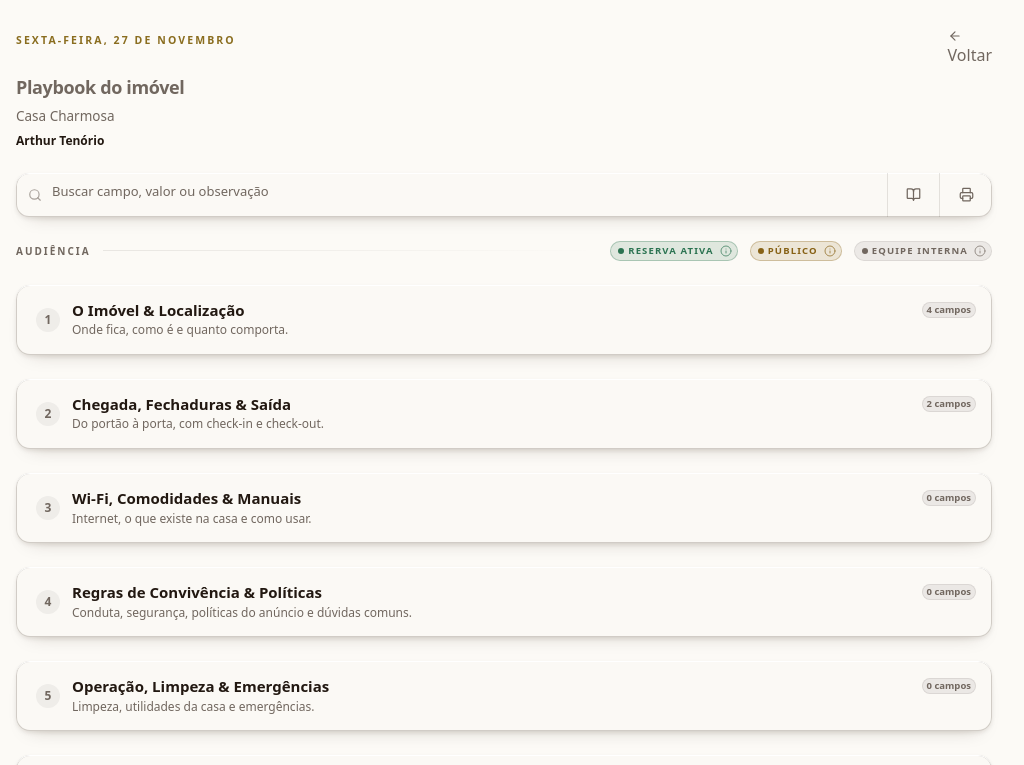
Test case: PlaybookPage › quantas linhas quiser abertas e a Nota do anfitrião só aparece na aberta
Expected: the text "Arthur Tenório" is shown, [16,133,104,149]
Click the button that starts with "O Imóvel & Localização" at coordinates (158, 310), box [36,300,976,338]
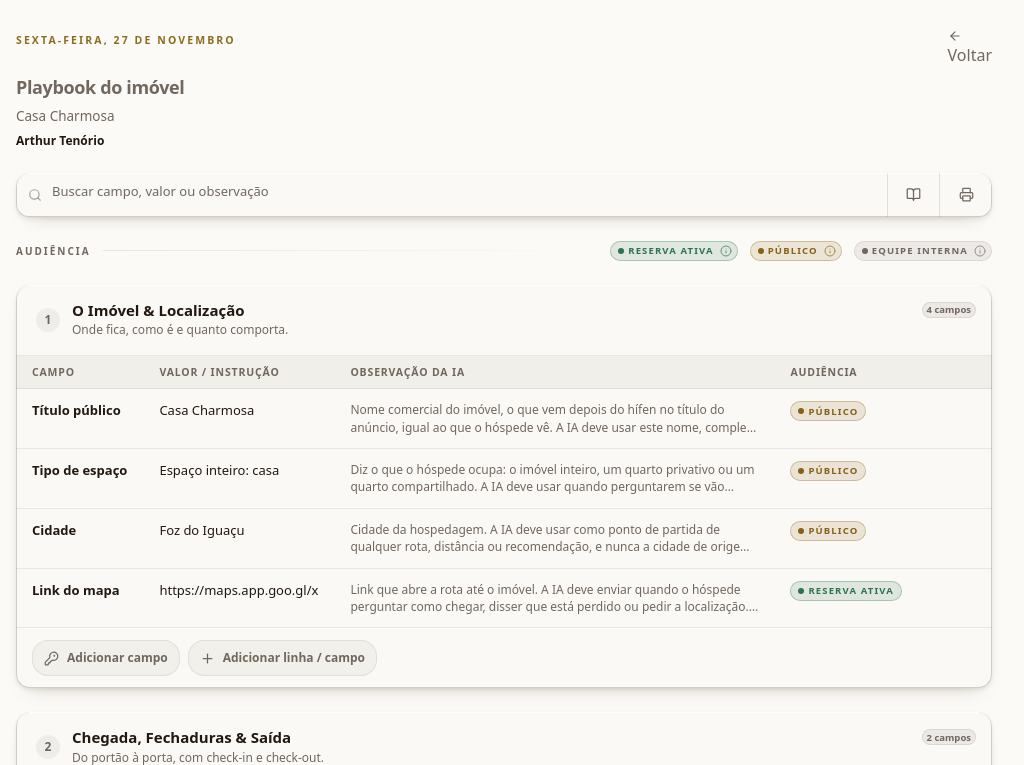
Click the text "Título público" at coordinates (76, 410), box [32,401,121,419]
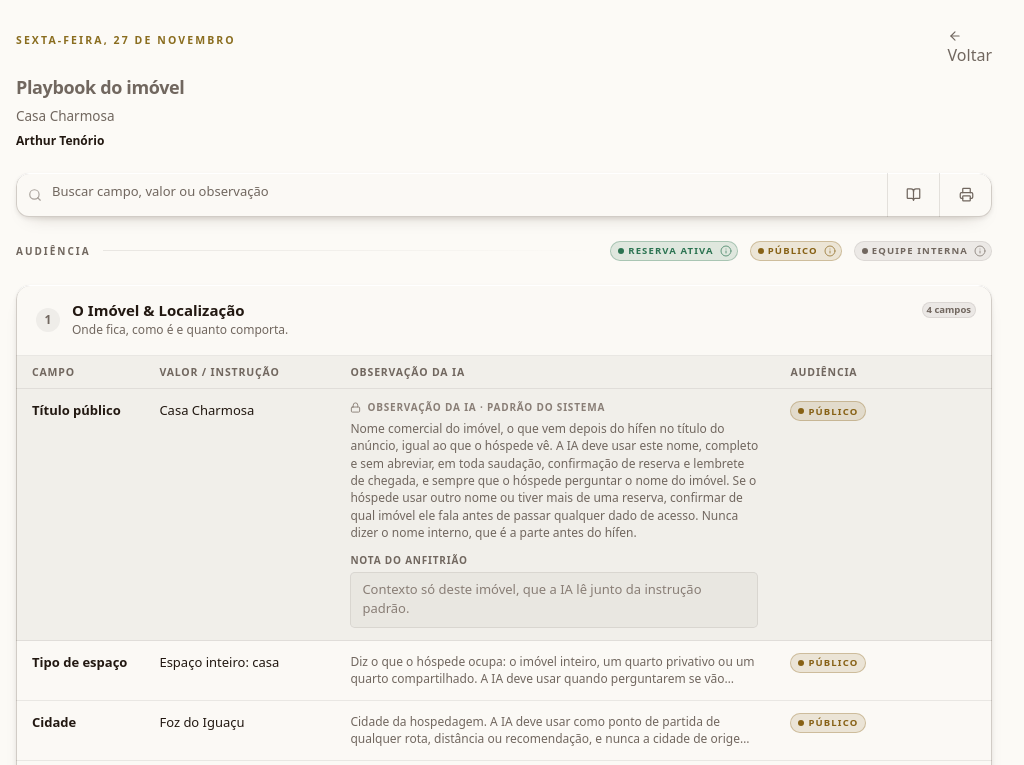
Click the text "Tipo de espaço" at coordinates (80, 662), box [32,653,127,671]
(page scrolled)
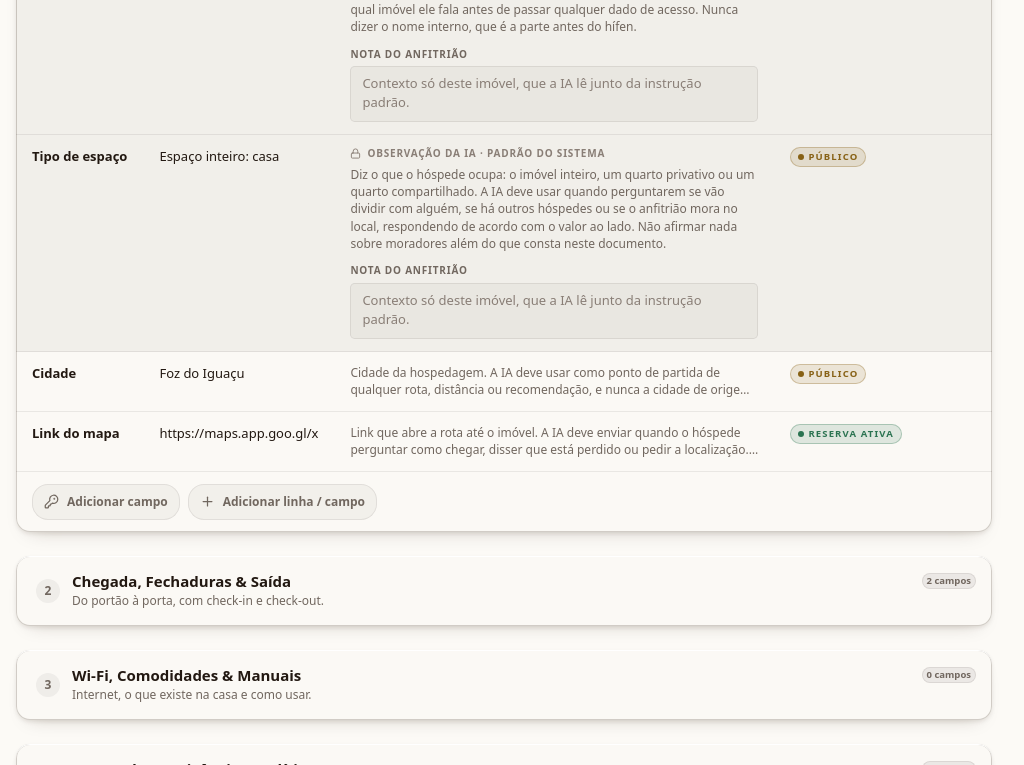
Click the text "Cidade" at coordinates (54, 373), box [32,364,76,382]
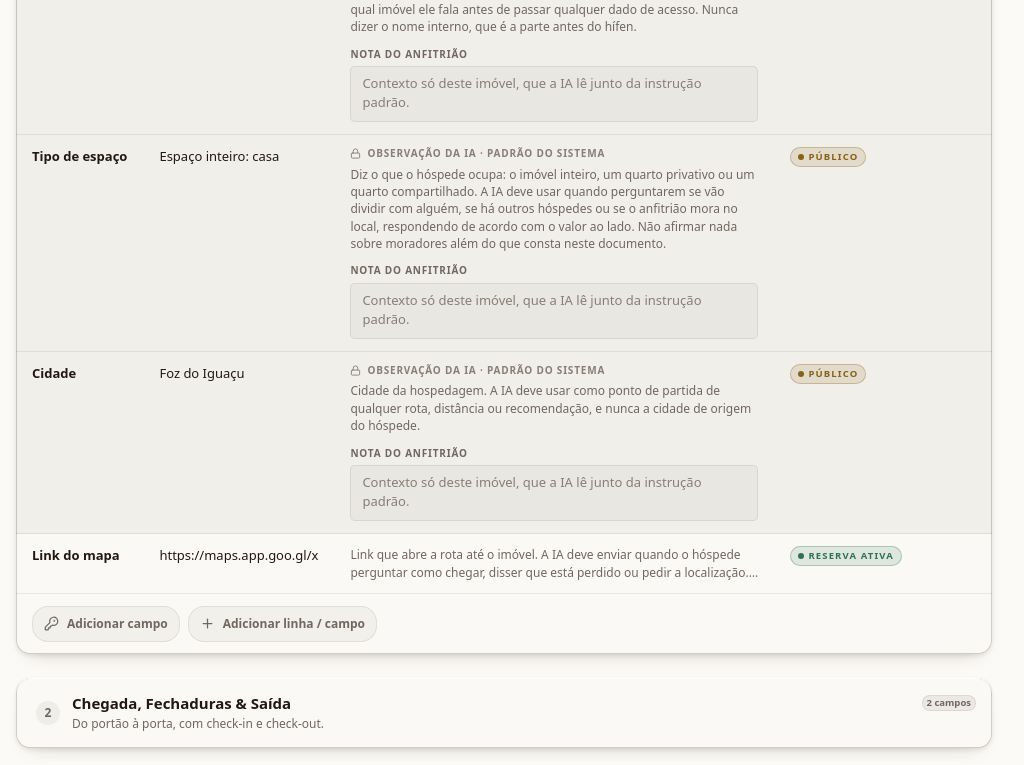
Expected: the text "Nota do anfitrião" is shown 3 times, [350,46,468,60]; [350,264,468,278]; [350,446,468,460]
